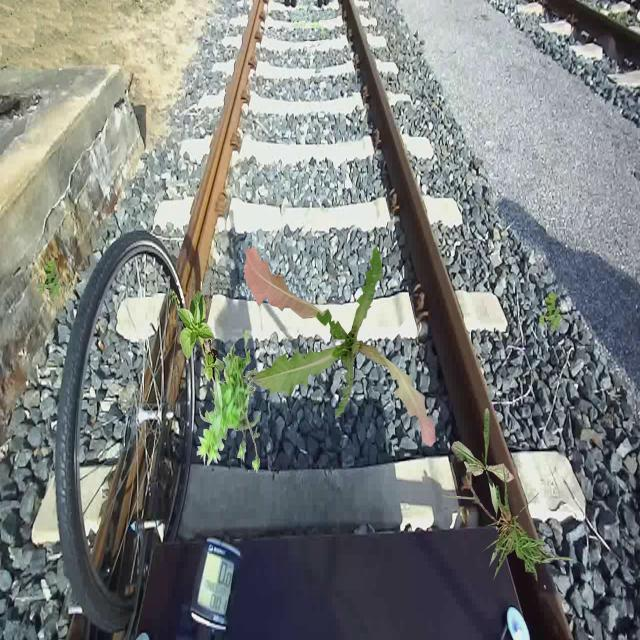Plant: (243, 245, 436, 448), (442, 464, 586, 584), (197, 330, 262, 473), (451, 408, 515, 520), (177, 290, 225, 385), (39, 260, 63, 301), (539, 292, 563, 333)
